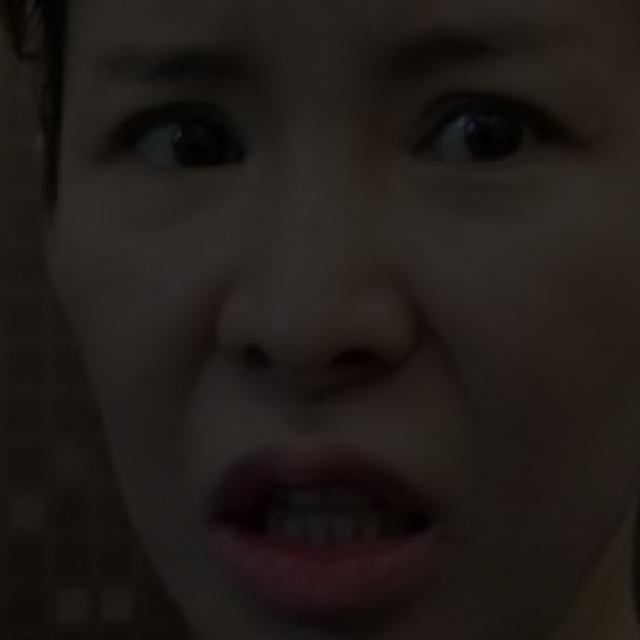Angry: (81, 25, 640, 613)
